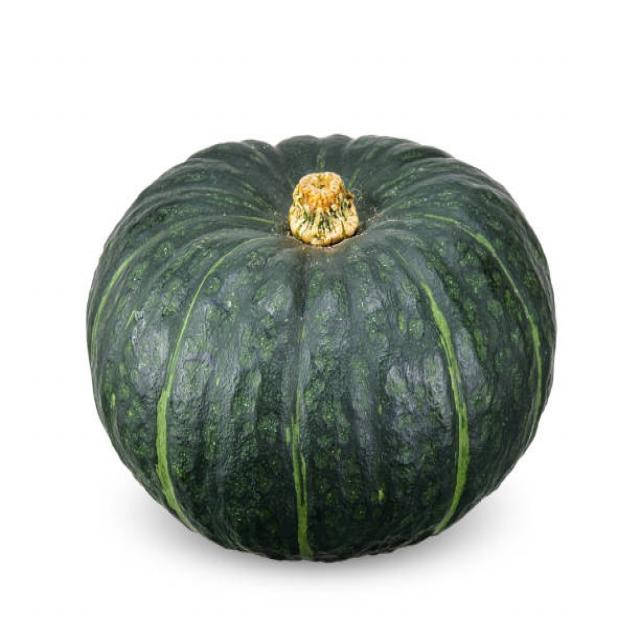pumpkin: (77, 129, 560, 563)
